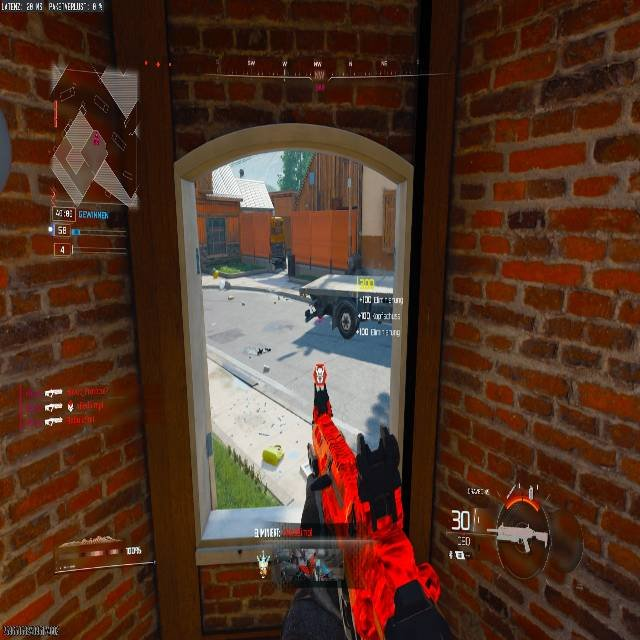head: (312, 390, 334, 423)
player: (304, 388, 360, 567)
